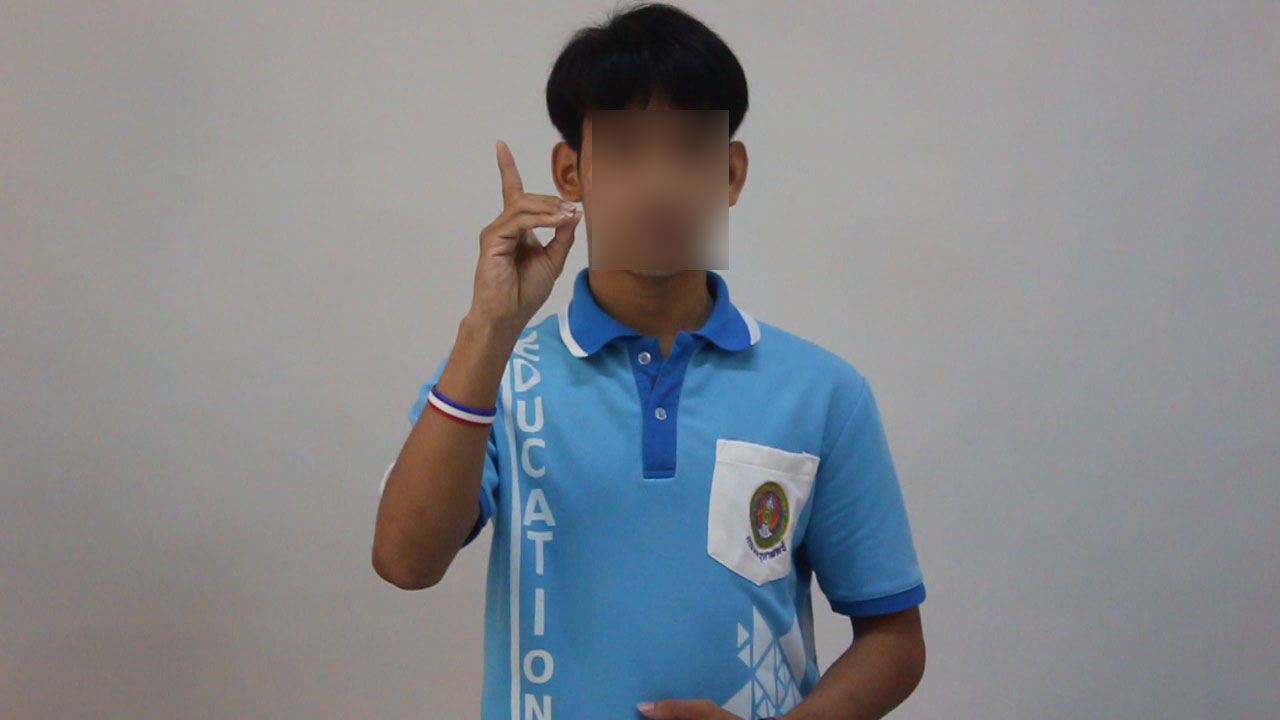dor: (458, 131, 592, 319)
